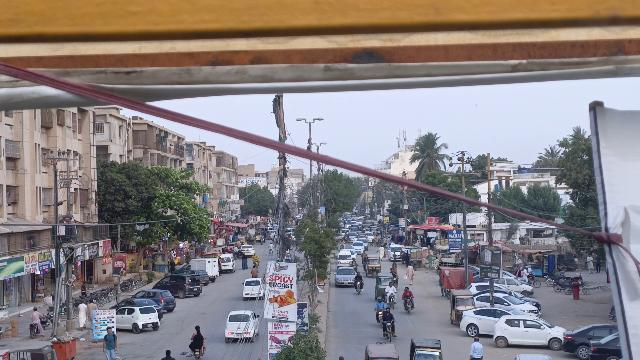Bike: (28, 305, 47, 339), (382, 318, 395, 343), (353, 271, 365, 295), (403, 297, 415, 316), (191, 345, 204, 360)
Car: (491, 311, 566, 349), (560, 321, 619, 358), (459, 306, 525, 337), (473, 291, 540, 317), (222, 308, 262, 345), (115, 305, 162, 334), (151, 274, 203, 299), (109, 298, 164, 320), (132, 288, 177, 314), (582, 330, 620, 360), (240, 276, 264, 302), (333, 265, 358, 289), (86, 298, 96, 327)
Person: (99, 325, 120, 360), (466, 334, 486, 360), (75, 299, 89, 331), (403, 261, 417, 286)
Rickshaw: (448, 287, 477, 326), (406, 336, 443, 360), (374, 271, 396, 302), (362, 343, 400, 360), (364, 253, 384, 278)
Truck: (187, 257, 220, 285)
Van: (218, 253, 237, 275)
